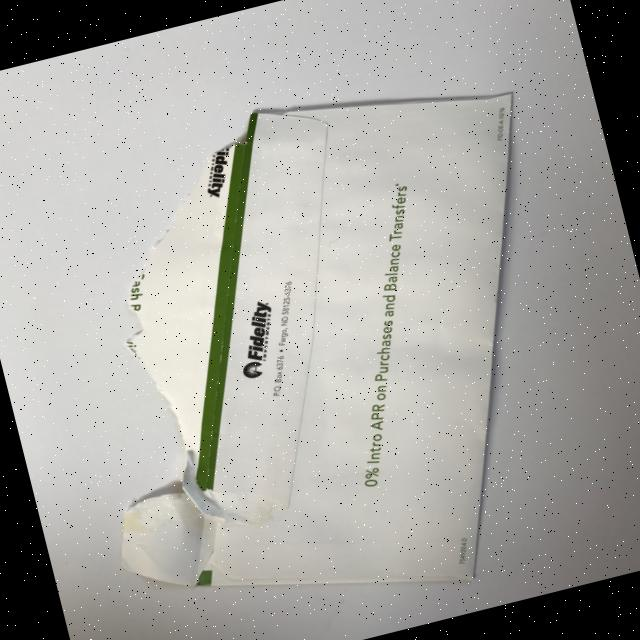paper: (22, 48, 626, 640)
